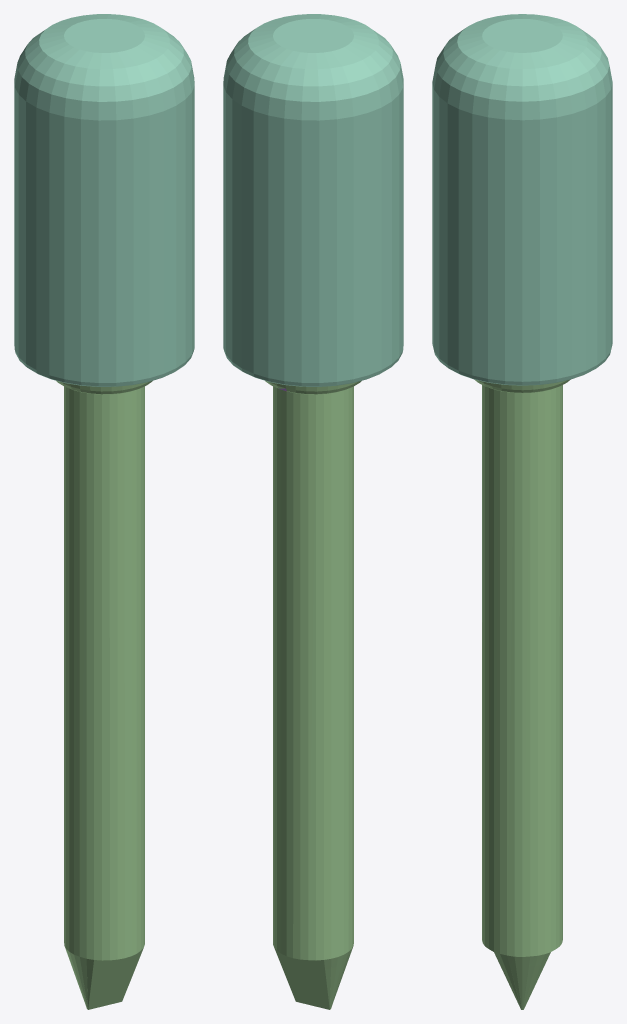
The model's file is post.glb.
3 views of the same model, side by side, from view 1: azimuth 30°, elevation 25°; view 2: azimuth 150°, elevation 25°; view 3: azimuth 270°, elevation 25° (orthographic).
Parts seen in each view (by area): view 1: world; view 2: world; view 3: world.
Boxes of the visible parts, x1,y1,x2,y2 form: world: (14,14,194,1009); world: (223,14,403,1009); world: (432,14,612,1009).
Size of the model in its own units: 0.1692 by 1 by 0.1692.
